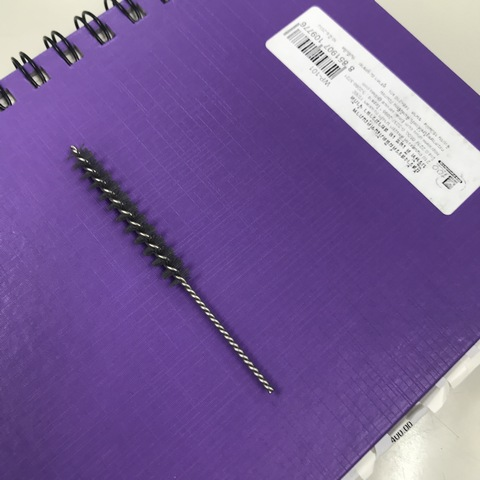Twist Brush-A: (64, 143, 278, 399)
